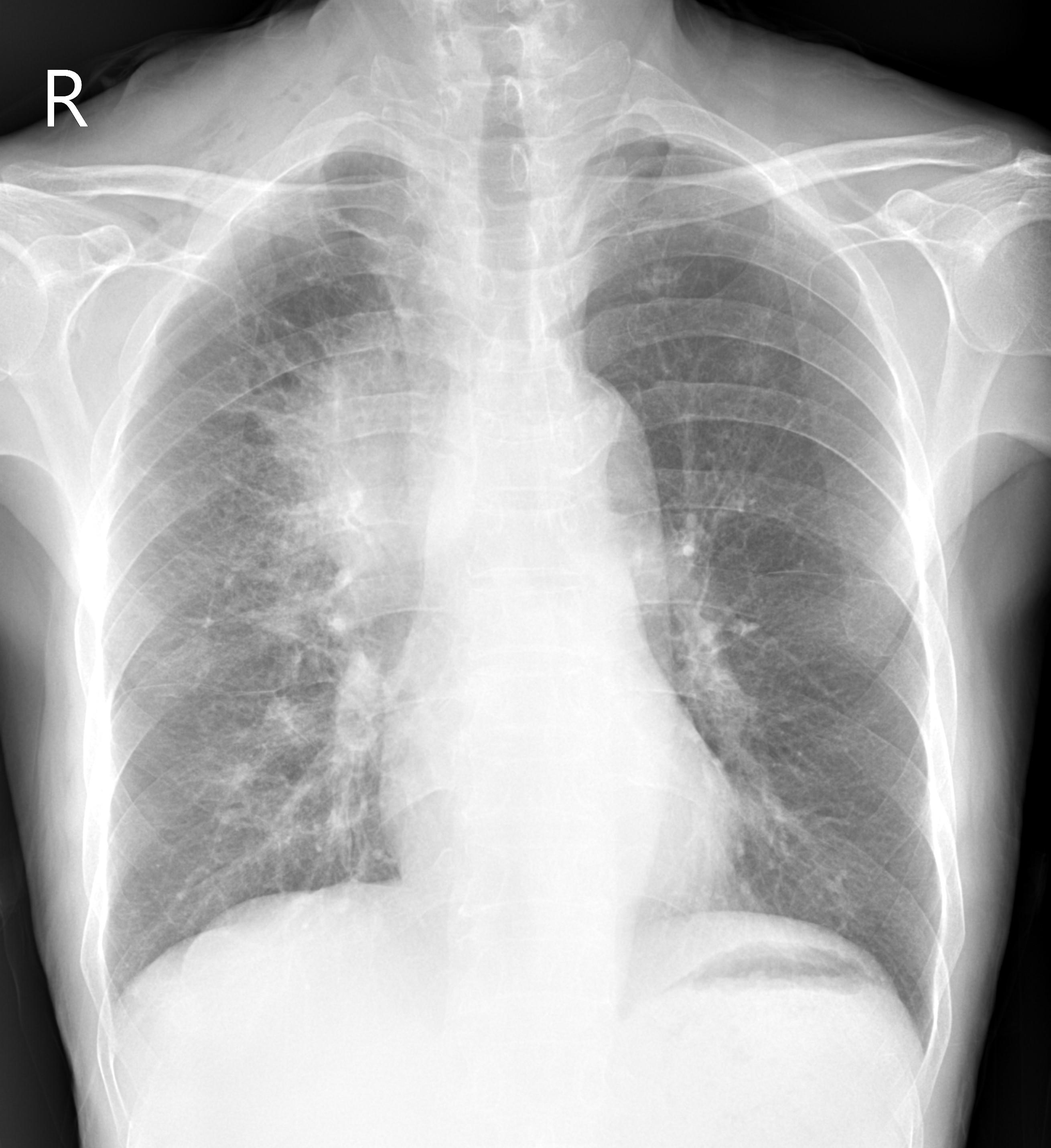Pulmonary fibrosis: (119, 258, 399, 873)
